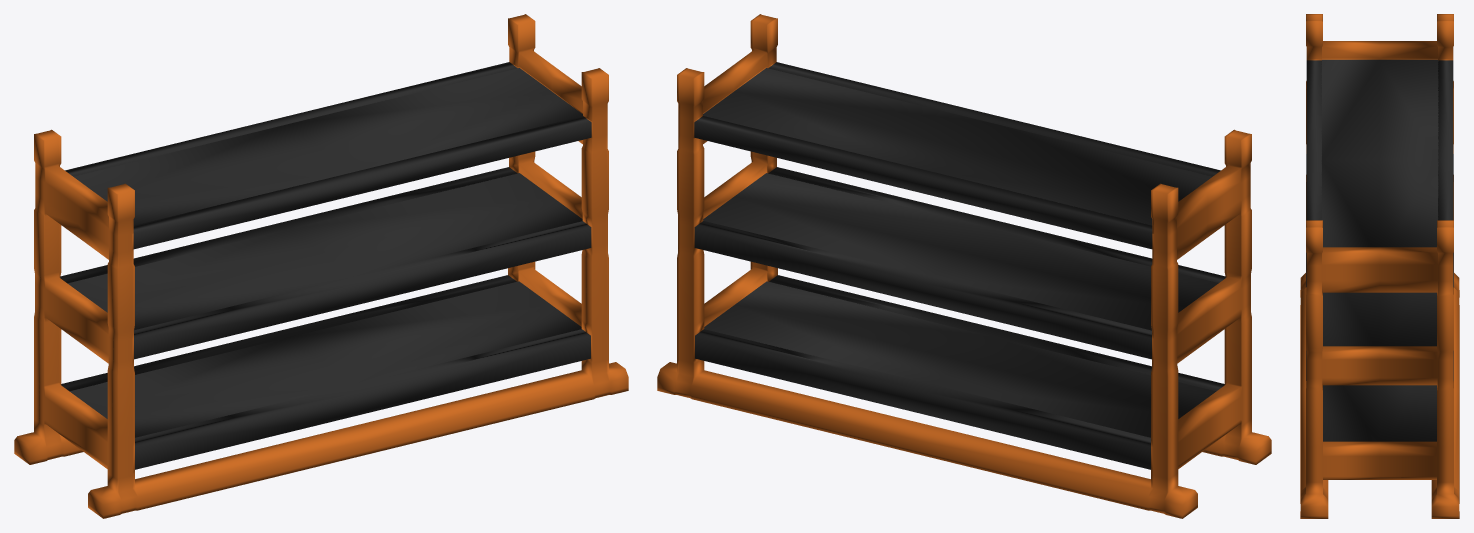
Rendered from Empty Shelf.fbx.
3 renders of one model, left to right at view 1: azimuth 30°, elevation 25°; view 2: azimuth 150°, elevation 25°; view 3: azimuth 270°, elevation 25°, orthographic. The views are drawn at different scales.
Visible parts, largest first — view 1: Cube; view 2: Cube; view 3: Cube.
Part boxes in pixels (<box>): Cube: <box>14,14,628,518</box>; Cube: <box>657,14,1271,518</box>; Cube: <box>1300,14,1459,518</box>.
Bounding box in the file's own units: 1038 × 600 × 305.
